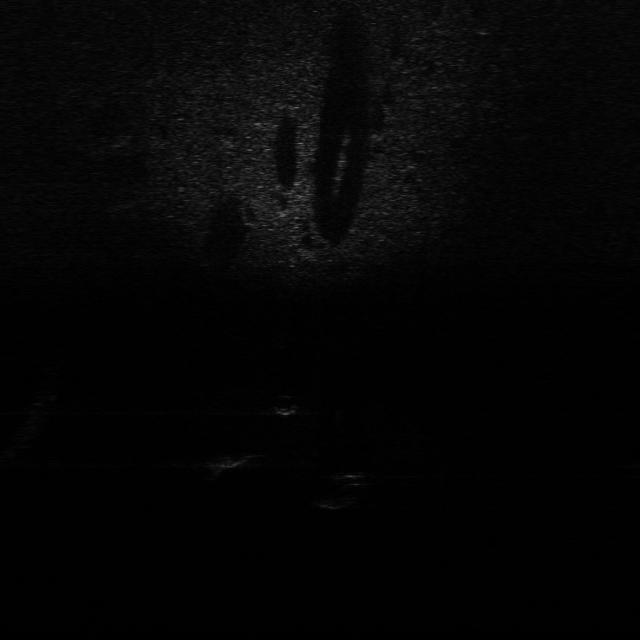ball: (268, 394, 296, 417)
square cage: (206, 445, 260, 476)
tyre: (308, 459, 372, 507)
